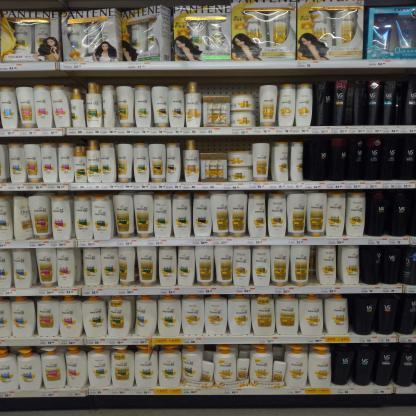Void: (204, 79, 257, 93), (198, 140, 249, 149)
